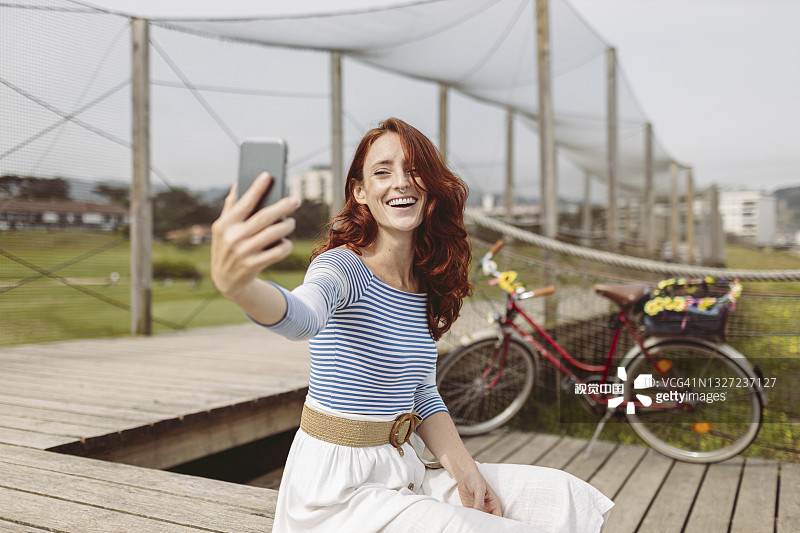taking photos: (203, 137, 312, 311)
